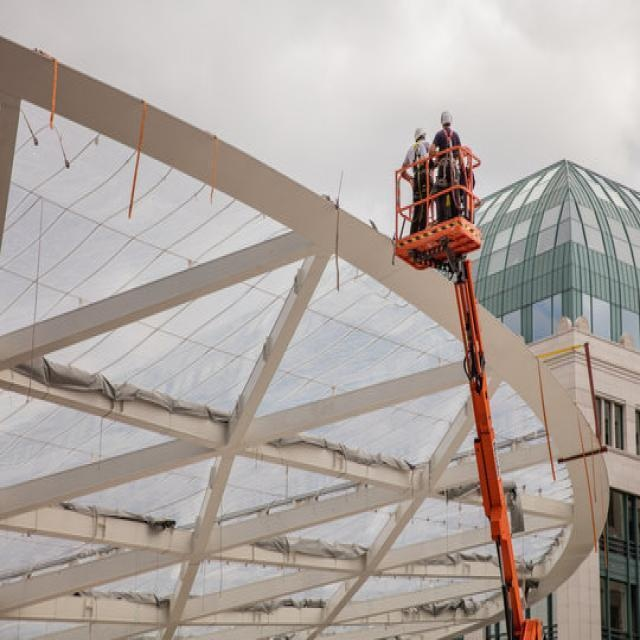Arnes_seguridad: (433, 146, 460, 187)
